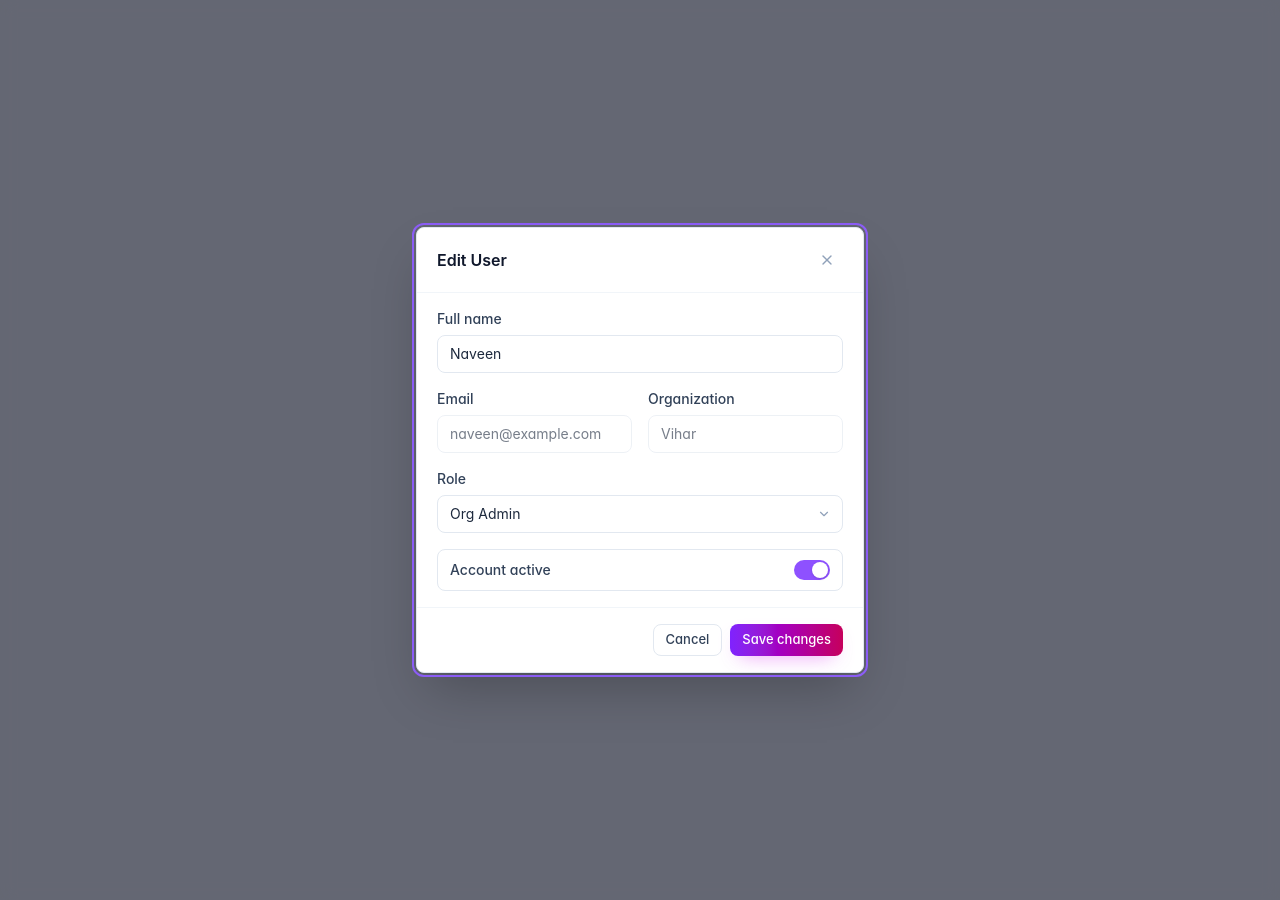
promoting to Super Admin without an identity elevation › says plainly when an existing, different elevation prevents a new one
Select "Super Admin" in the dropdown at (640, 514), box [437, 495, 843, 533]
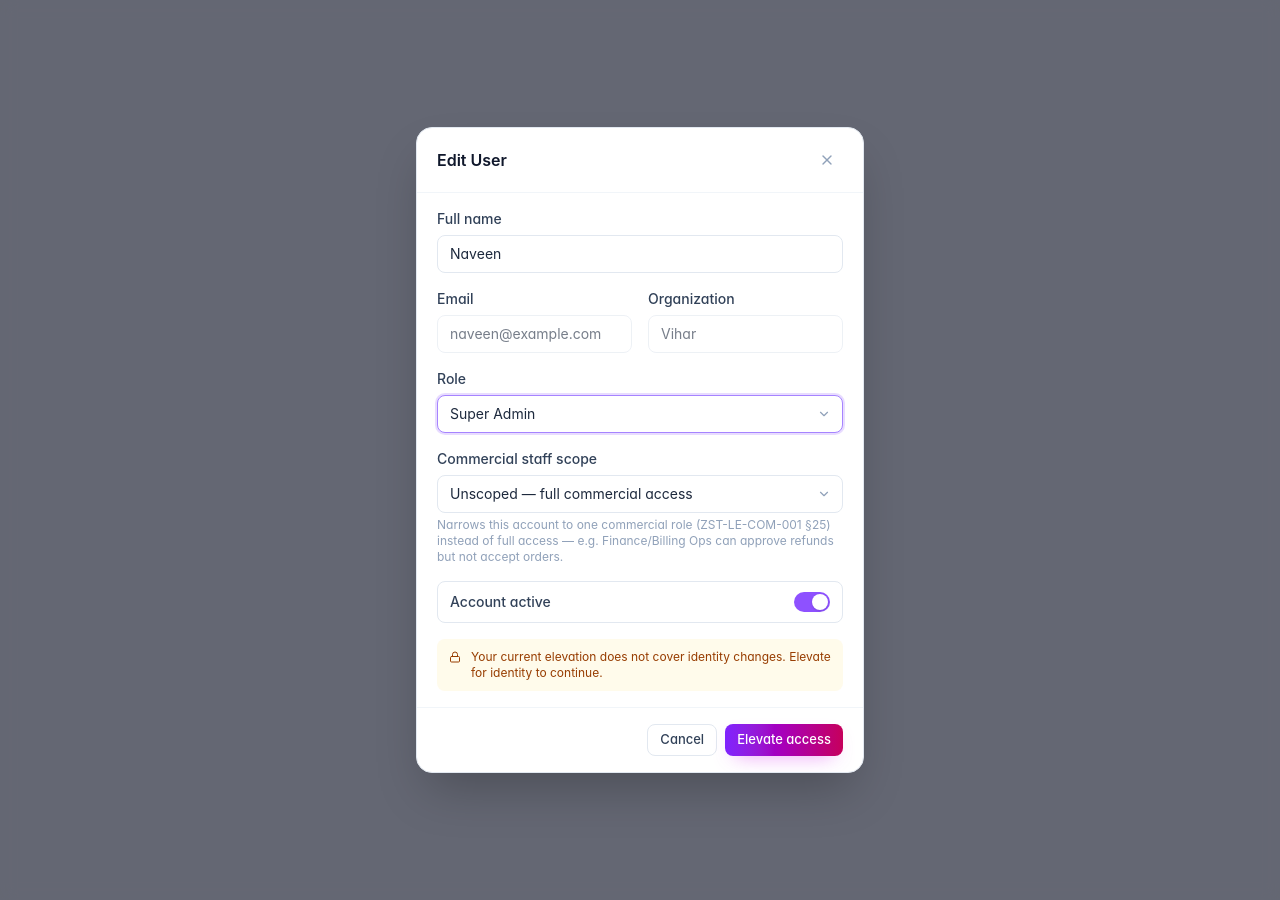
expect the message shows "does not cover identity": met, box [471, 649, 831, 680]
Click the button "Elevate access".
click(784, 740)  # box [725, 724, 843, 756]
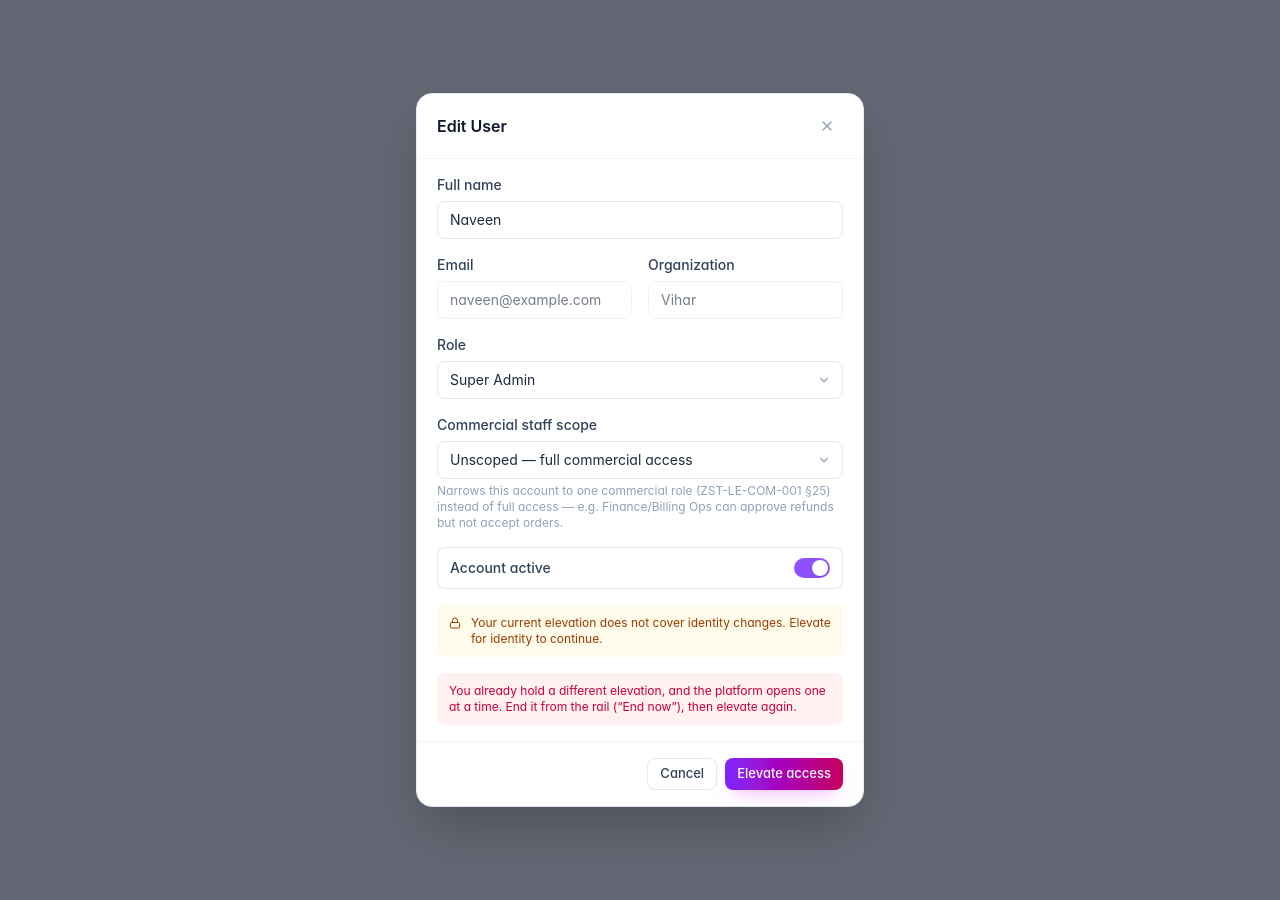
expect the 2nd message shows "end it from the rail": met, box [449, 683, 826, 714]
